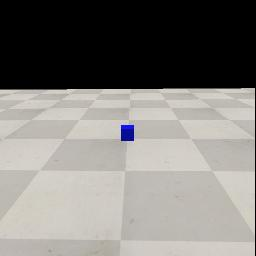box: (121, 125, 134, 141)
